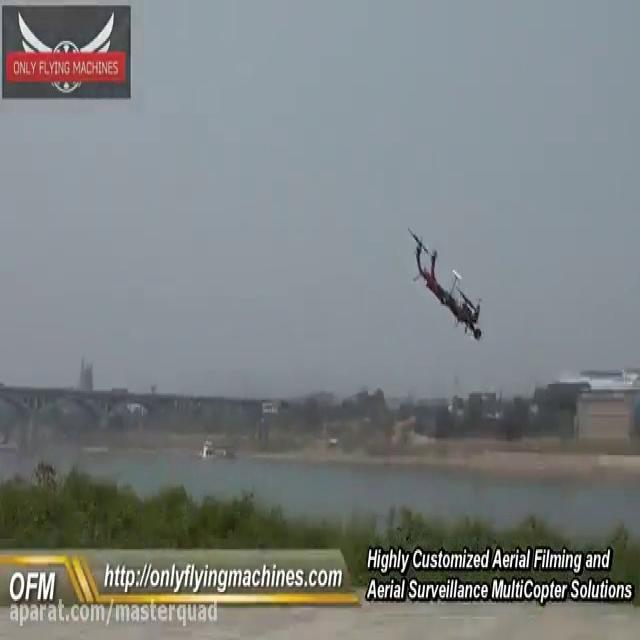drone: (402, 222, 486, 343)
